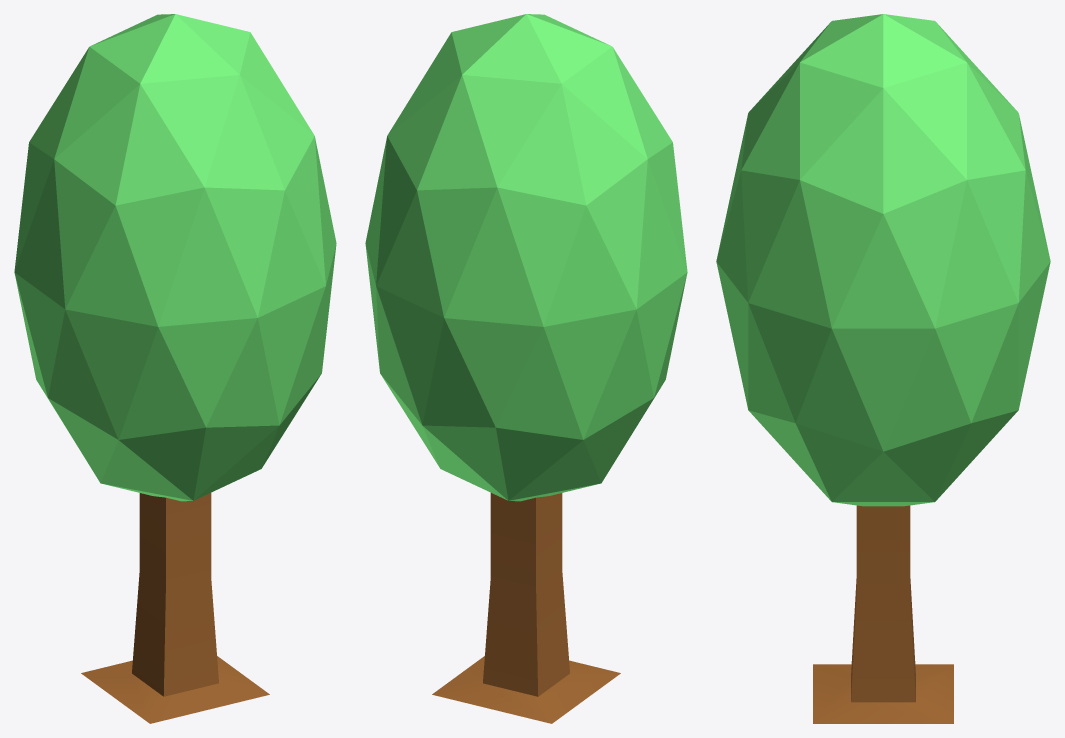
File: tree_lowpoly.glb
The picture shows the model from 3 angles, left to right: view 1: azimuth 30°, elevation 25°; view 2: azimuth 150°, elevation 25°; view 3: azimuth 270°, elevation 25°; orthographic projection.
Parts seen in each view (by area): view 1: Icosphere, Cube; view 2: Icosphere, Cube; view 3: Icosphere, Cube.
Part boxes in pixels (left/top/right/bottom): Icosphere: left=14, top=14, right=336, bottom=501; Cube: left=81, top=493, right=269, bottom=723; Icosphere: left=365, top=14, right=687, bottom=501; Cube: left=432, top=493, right=620, bottom=723; Icosphere: left=716, top=14, right=1050, bottom=506; Cube: left=813, top=505, right=953, bottom=723.
Bounding box in the file's own units: 0.9316 × 2.2 × 0.9796.
